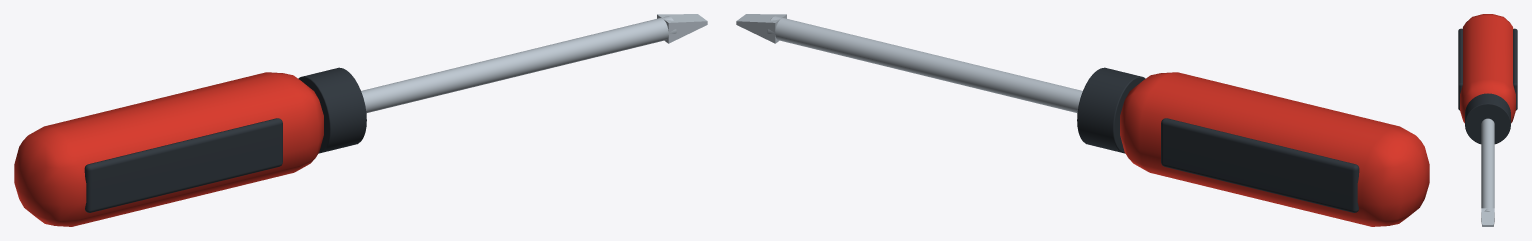
The model's file is 01_screwdriver.glb.
3 renders of one model, left to right at view 1: azimuth 30°, elevation 25°; view 2: azimuth 150°, elevation 25°; view 3: azimuth 270°, elevation 25°, orthographic. The views are drawn at different scales.
Parts seen in each view (by area): view 1: Handle, Shaft, Tip; view 2: Handle, Shaft, Tip; view 3: Handle, Shaft, Tip.
Boxes of the visible parts, x1,y1,x2,y2 form: Handle: (14,67,366,226); Shaft: (361,16,676,112); Tip: (657,14,707,43); Handle: (1077,67,1429,226); Shaft: (767,16,1082,112); Tip: (736,14,786,43); Handle: (1458,14,1517,144); Shaft: (1481,118,1494,211); Tip: (1481,208,1494,226).
Size of the model in its own units: 0.238 by 0.03 by 0.031.
